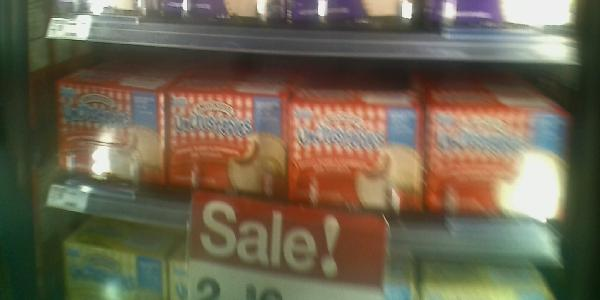icecream: (422, 78, 565, 236), (286, 84, 424, 231), (159, 70, 286, 220), (49, 68, 169, 187)
